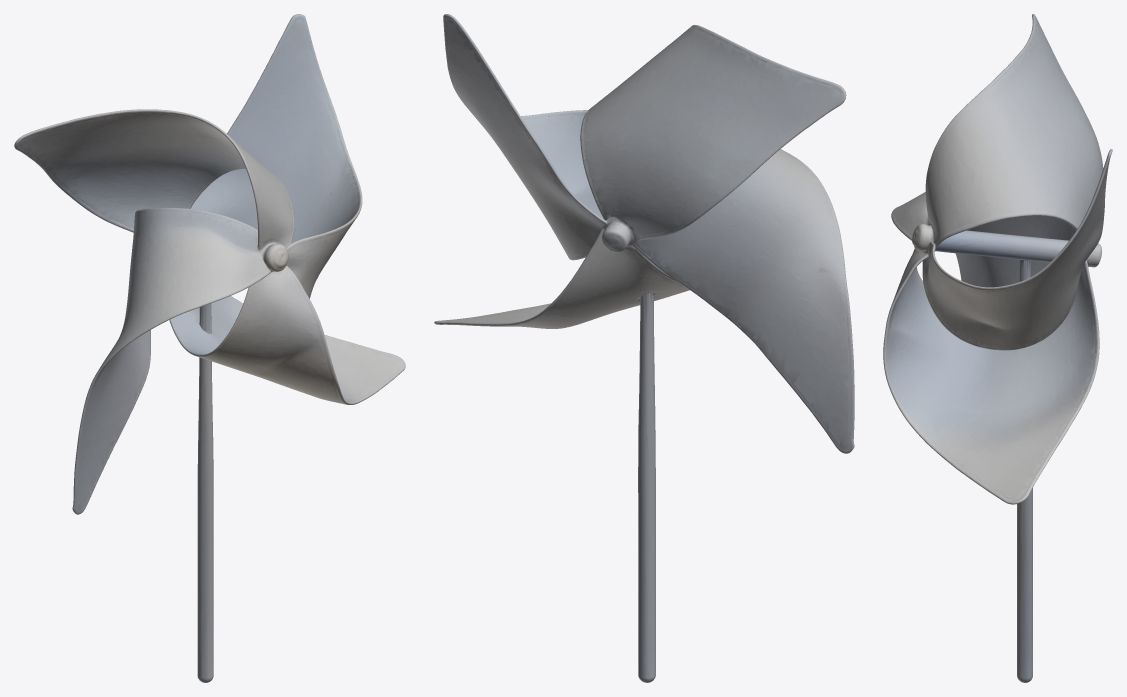
The model's file is tripo_convert_1695f199-0f58-4c41-9629-7175fad61905.fbx.
The picture shows the model from 3 angles, left to right: view 1: azimuth 30°, elevation 25°; view 2: azimuth 150°, elevation 25°; view 3: azimuth 270°, elevation 25°; orthographic projection. The views are drawn at different scales.
Parts seen in each view (by area): view 1: tripo_node_1695f199; view 2: tripo_node_1695f199; view 3: tripo_node_1695f199.
Part boxes in pixels (bbox=[...]): tripo_node_1695f199: bbox=[14, 14, 405, 682]; tripo_node_1695f199: bbox=[434, 14, 854, 682]; tripo_node_1695f199: bbox=[883, 14, 1112, 682].
Bounding box in the file's own units: 64.68 × 34.1 × 98.03.
1 material, 1 textured.
